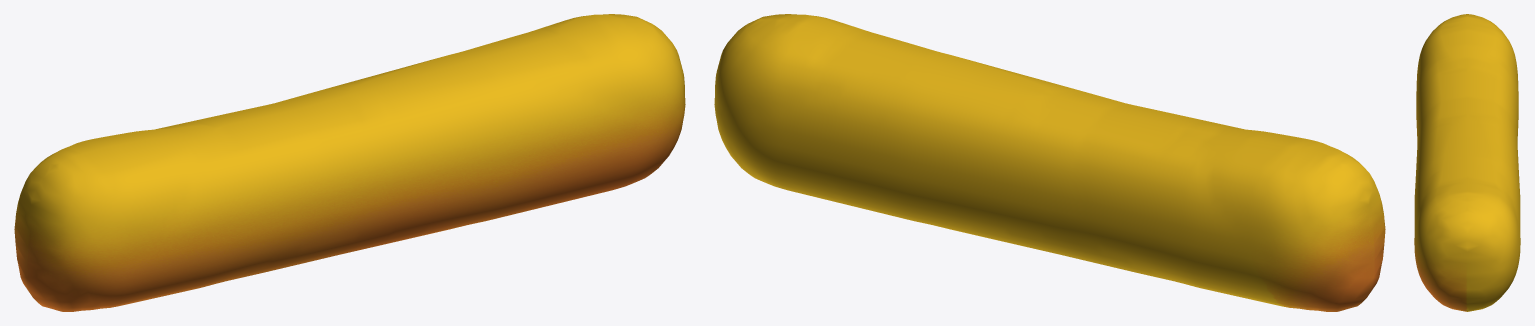
Rendered from platform.fbx.
3 views of the same model, side by side, from view 1: azimuth 30°, elevation 25°; view 2: azimuth 150°, elevation 25°; view 3: azimuth 270°, elevation 25° (orthographic). The views are drawn at different scales.
Parts seen in each view (by area): view 1: root; view 2: root; view 3: root.
Boxes of the visible parts, x1=… form: root: x1=14, y1=14, x2=685, y2=311; root: x1=714, y1=14, x2=1385, y2=311; root: x1=1414, y1=14, x2=1520, y2=311.
Bounding box in the file's own units: 0.4039 × 0.0944 × 0.0825.
1 material, 1 textured.
